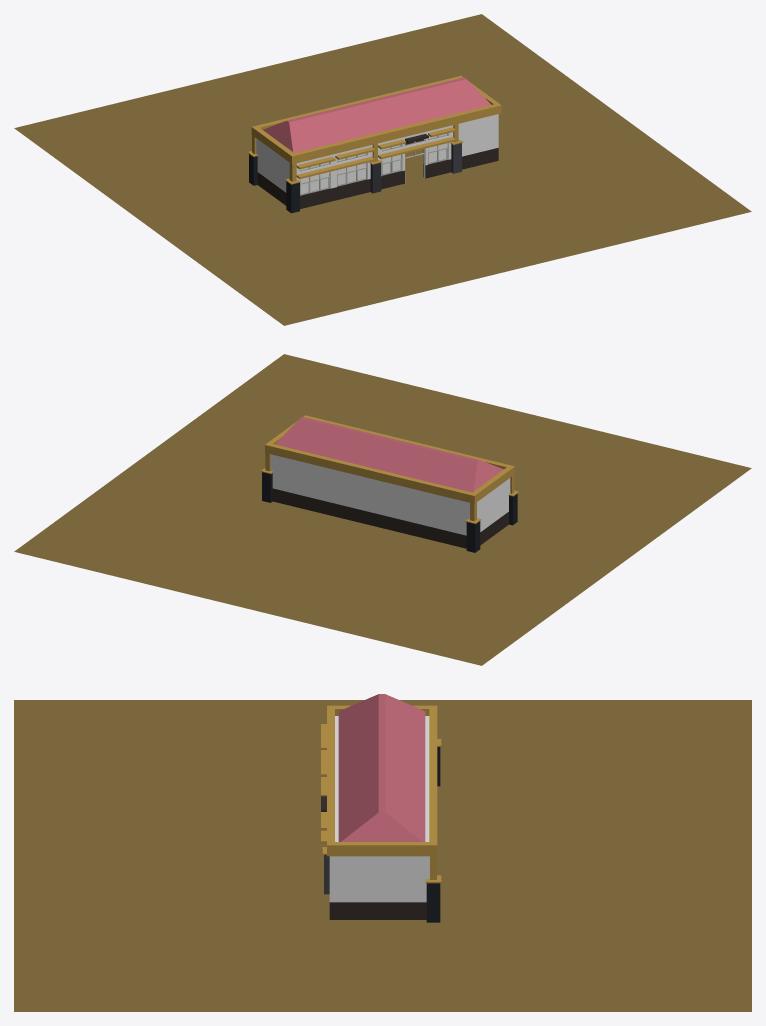
File: sekret.gltf
3 views of the same model, one above another, from view 1: azimuth 30°, elevation 25°; view 2: azimuth 150°, elevation 25°; view 3: azimuth 270°, elevation 25° (orthographic). The views are drawn at different scales.
Parts seen in each view (by area): view 1: Cube.018; view 2: Cube.018; view 3: Cube.018.
Part boxes in pixels (x1,y1,x2,y2): Cube.018: (14,14,751,325); Cube.018: (14,354,751,665); Cube.018: (14,694,751,1011).
Bounding box in the file's own units: 56.18 × 8.27 × 56.18.
